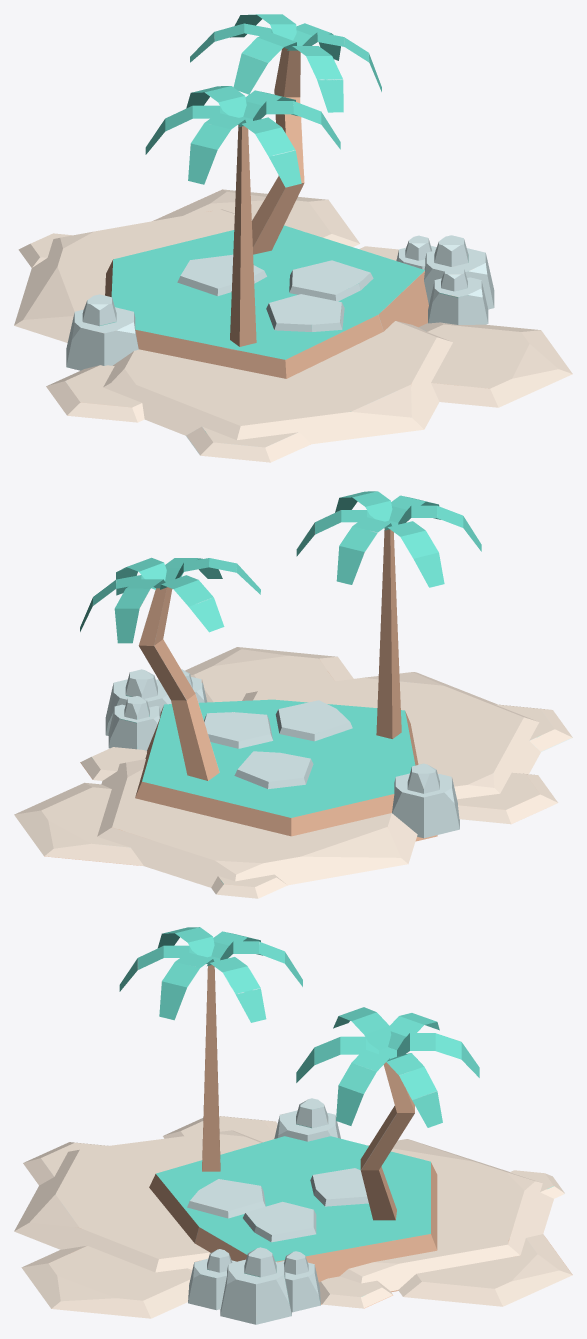
Rendered from island.glb.
3 renders of one model, top to bottom at view 1: azimuth 30°, elevation 25°; view 2: azimuth 150°, elevation 25°; view 3: azimuth 270°, elevation 25°, orthographic. The views are drawn at different scales.
Visible parts, largest first — view 1: island; view 2: island; view 3: island.
Part boxes in pixels (left/top/right/bottom): island: left=14, top=14, right=572, bottom=462; island: left=14, top=491, right=572, bottom=898; island: left=14, top=927, right=572, bottom=1324.
Size of the model in its own units: 2.71 by 1.6 by 3.08.
Materials: 1 (1 with a texture image).
